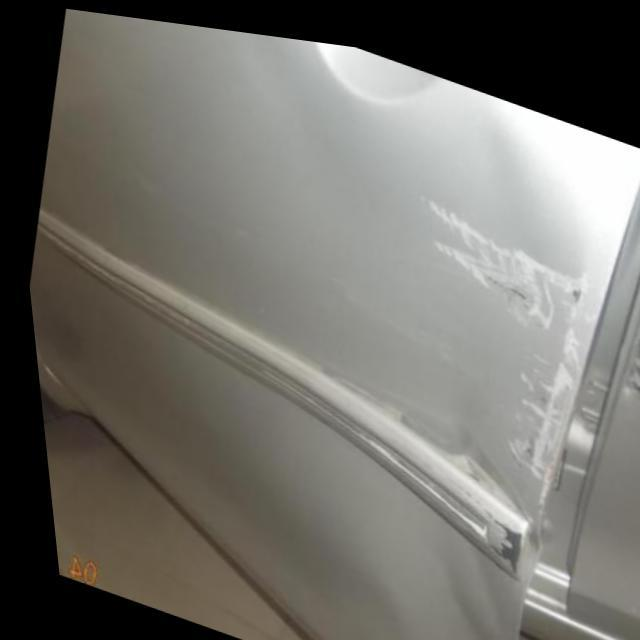rub: (492, 242, 583, 470), (613, 314, 640, 392)
scratch: (184, 290, 527, 575), (418, 176, 578, 333), (475, 478, 527, 568)
